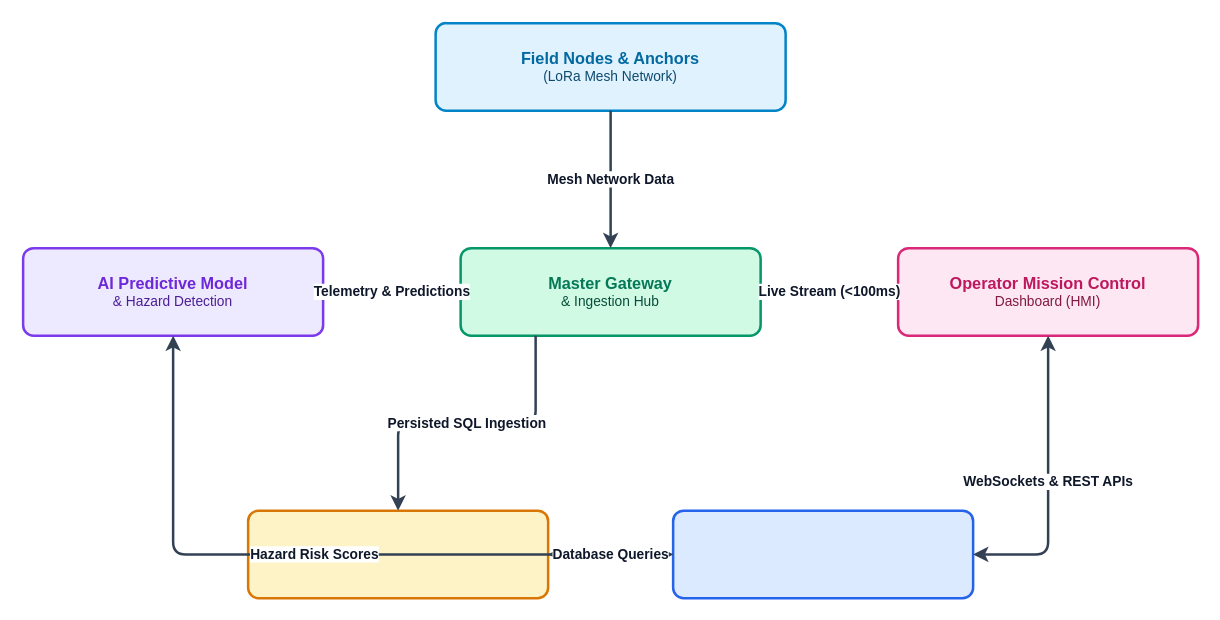
Image size: 1220x620. Some labels were removed from this diagram. Each missing label, with the centre of its shape:
Central Backend Server (WebSockets & REST): the point at 822,554
PostgreSQL Database (Time-Series & Ledger): the point at 397,554
